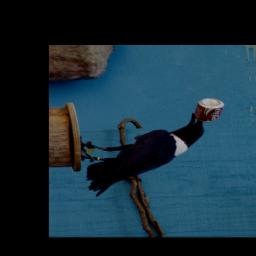Crow: (76, 111, 210, 198)
